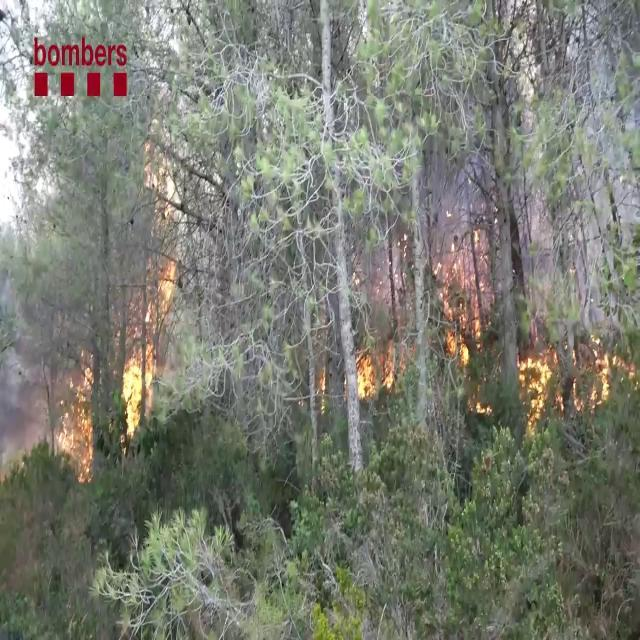Fire: (119, 132, 182, 444), (51, 347, 98, 481), (514, 341, 560, 434), (354, 344, 376, 404)
